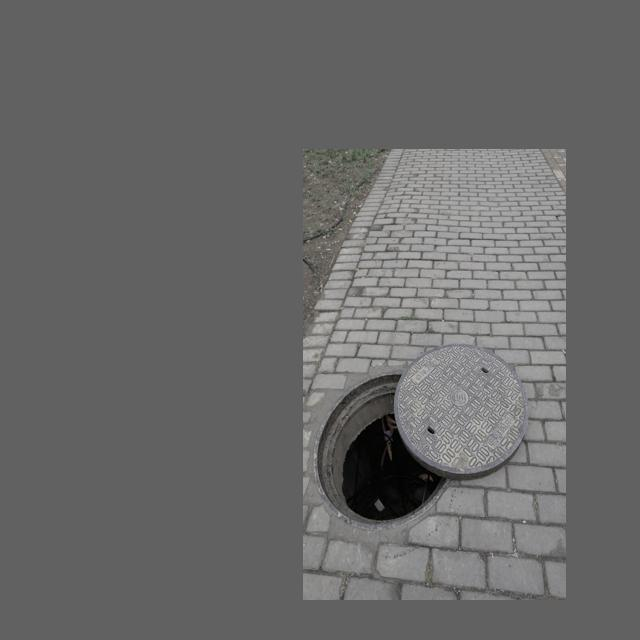uncovered: (312, 352, 526, 521)
